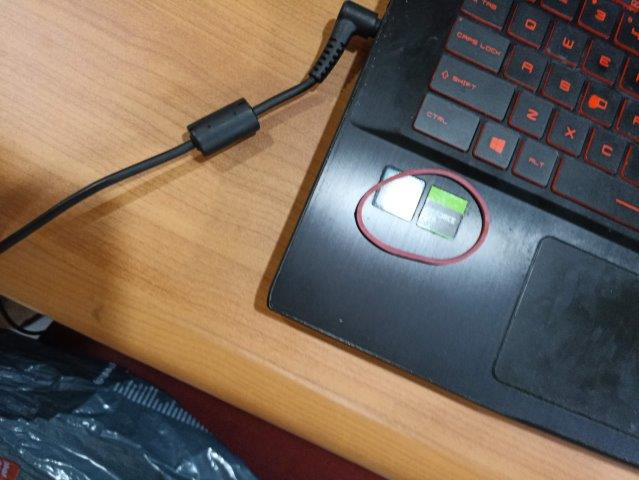karet: (356, 168, 490, 267)
